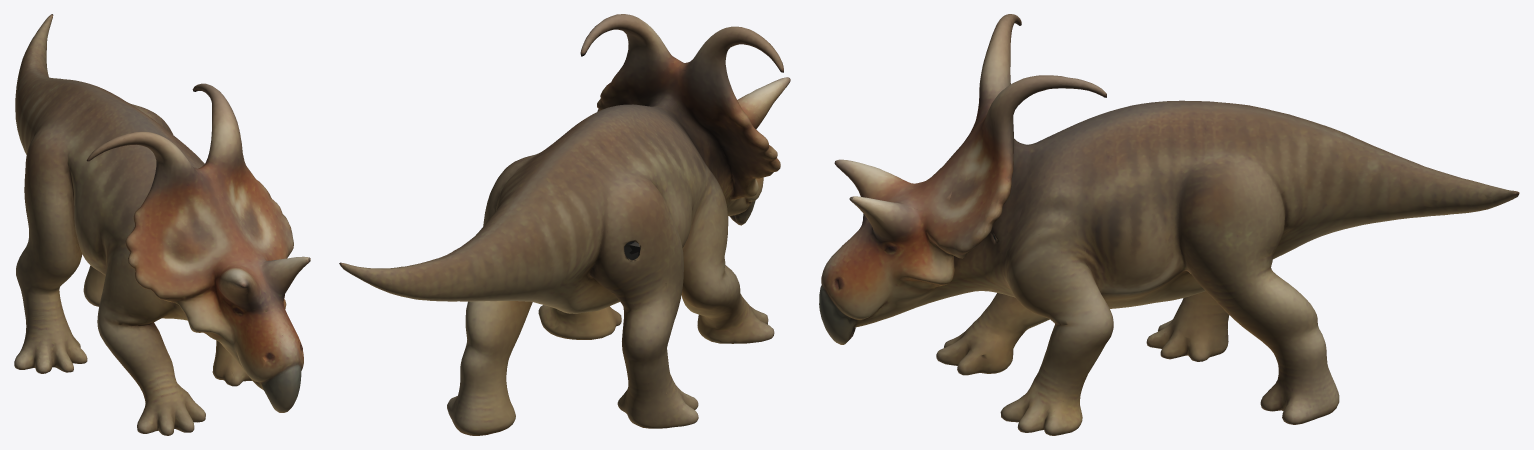
3 renders of one model, left to right at view 1: azimuth 30°, elevation 25°; view 2: azimuth 150°, elevation 25°; view 3: azimuth 270°, elevation 25°, orthographic. The views are drawn at different scales.
Visible parts, largest first — view 1: world; view 2: world; view 3: world.
Boxes of the visible parts, <box> form: world: <box>14,14,310,435</box>; world: <box>339,14,790,435</box>; world: <box>819,14,1519,435</box>.
Size of the model in its own units: 1.77 by 2.37 by 4.53.
Materials: 1 (1 with a texture image).
